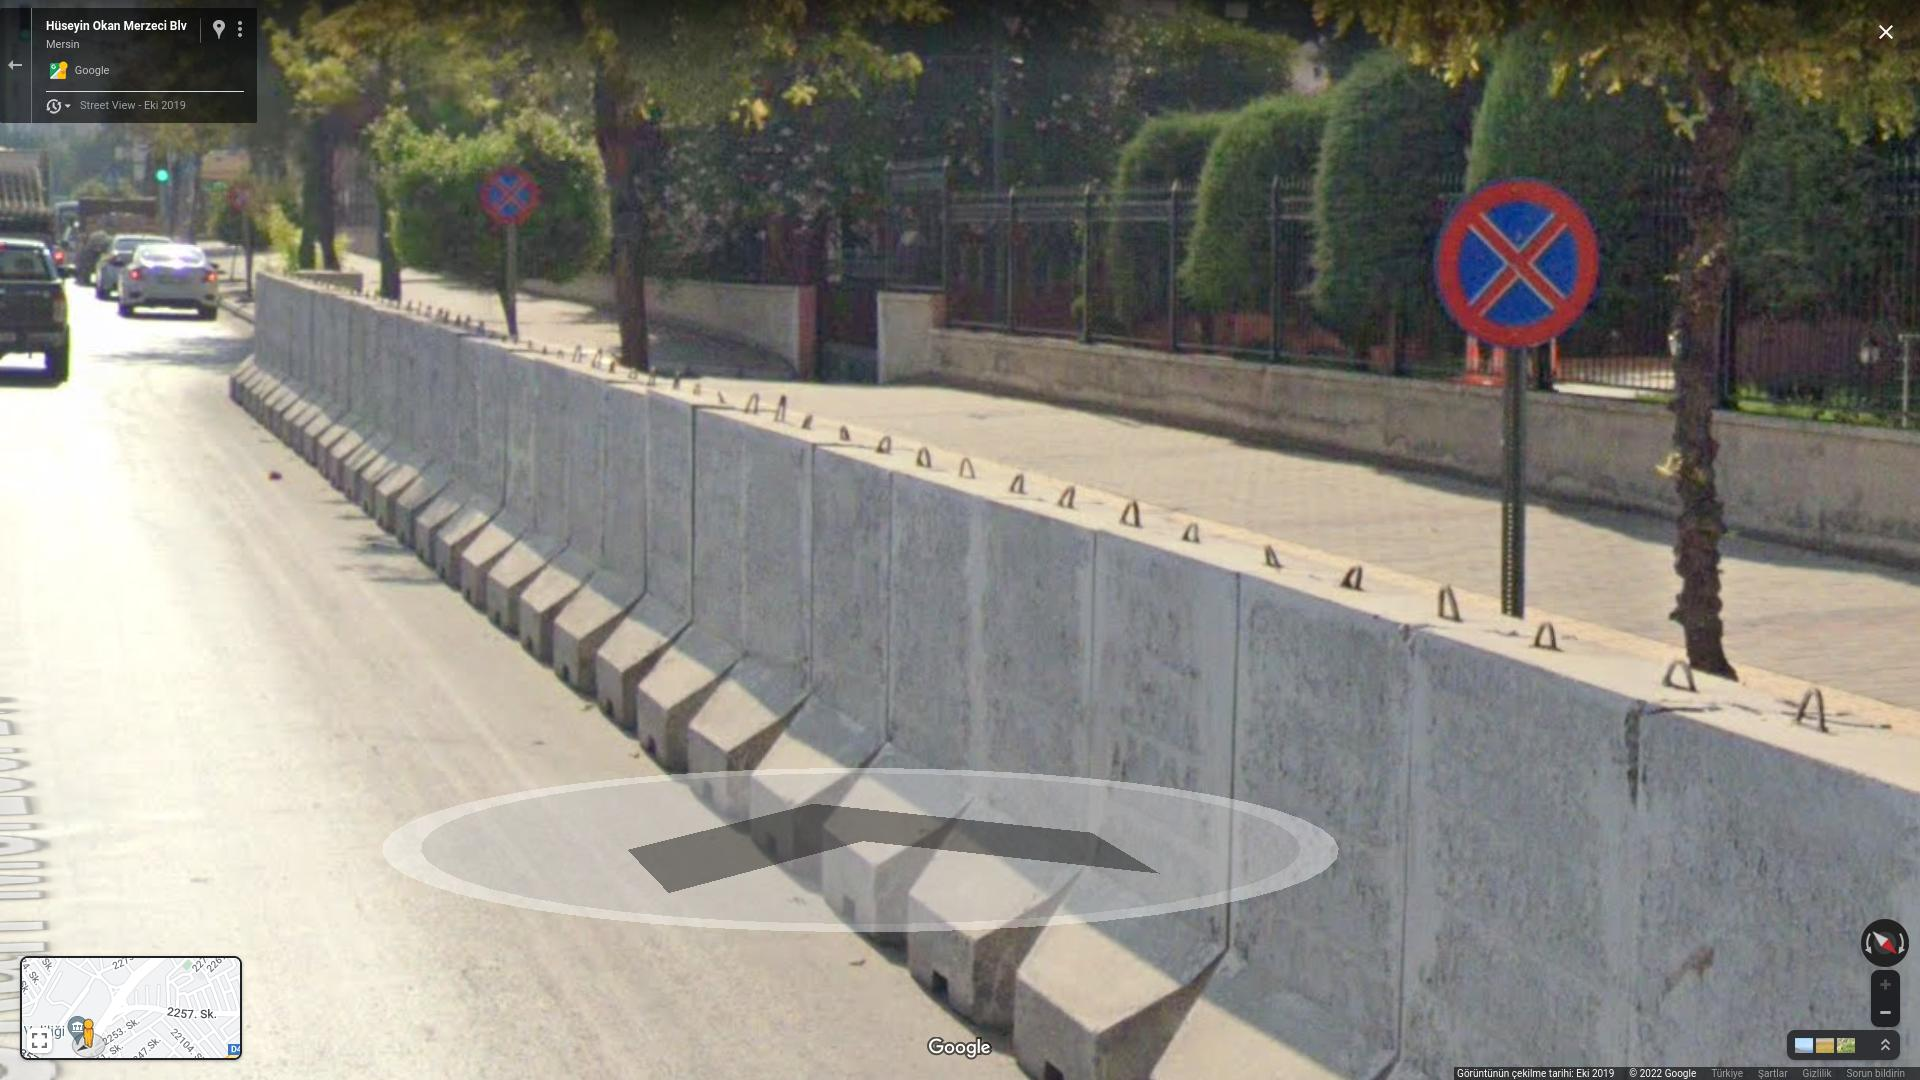greenlight: (153, 138, 170, 183)
